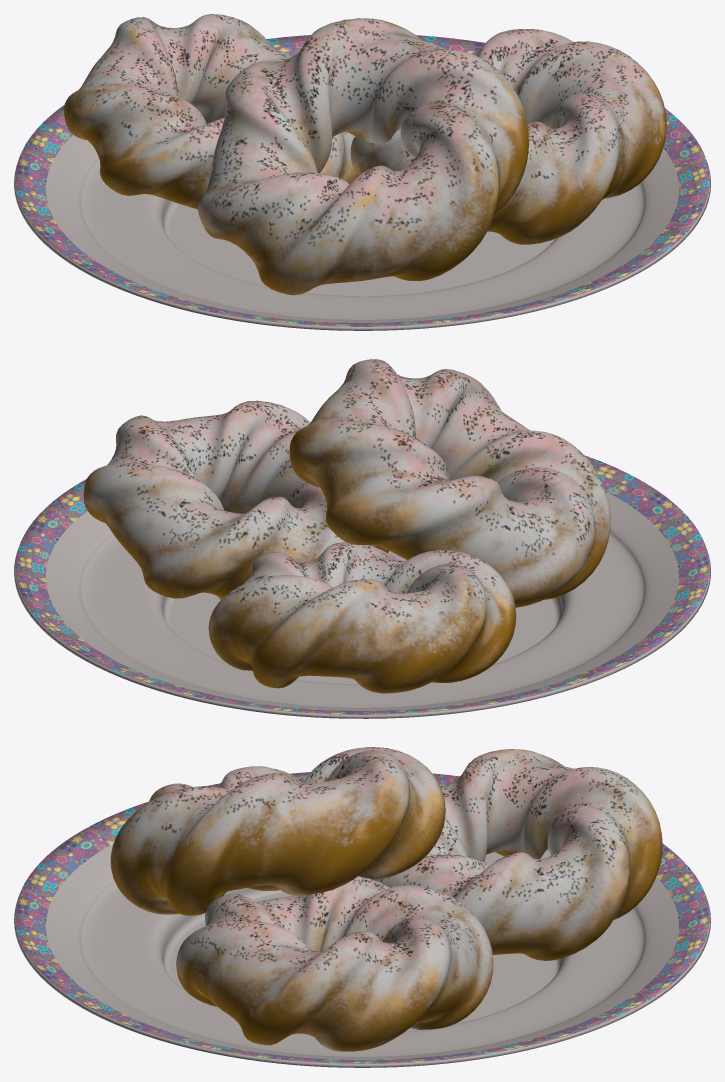
The model's file is asset.glb.
3 views of the same model, one above another, from view 1: azimuth 30°, elevation 25°; view 2: azimuth 150°, elevation 25°; view 3: azimuth 270°, elevation 25° (orthographic).
Visible parts, largest first — view 1: Torus.001; view 2: Torus.001; view 3: Torus.001.
Part boxes in pixels (box(x1,y1,x2,y2)): Torus.001: box(14, 14, 710, 330); Torus.001: box(14, 359, 710, 718); Torus.001: box(14, 747, 710, 1067).
Size of the model in its own units: 0.7447 by 0.2472 by 0.7447.
3 materials, 2 textured.
